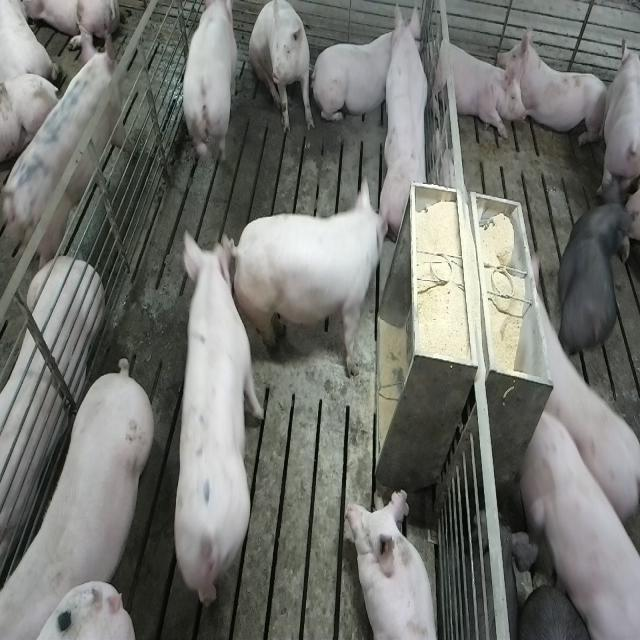Feeding: (222, 180, 388, 387)
Lateral_lying: (0, 257, 102, 585)
Sitting: (379, 9, 434, 242), (247, 1, 314, 138)
Standing: (179, 226, 268, 620), (0, 36, 128, 285), (519, 415, 638, 640), (531, 295, 639, 542), (555, 189, 638, 356), (180, 0, 240, 181)
Sternal_lying: (500, 19, 610, 150), (346, 487, 440, 640), (427, 33, 521, 143), (314, 26, 406, 124)
